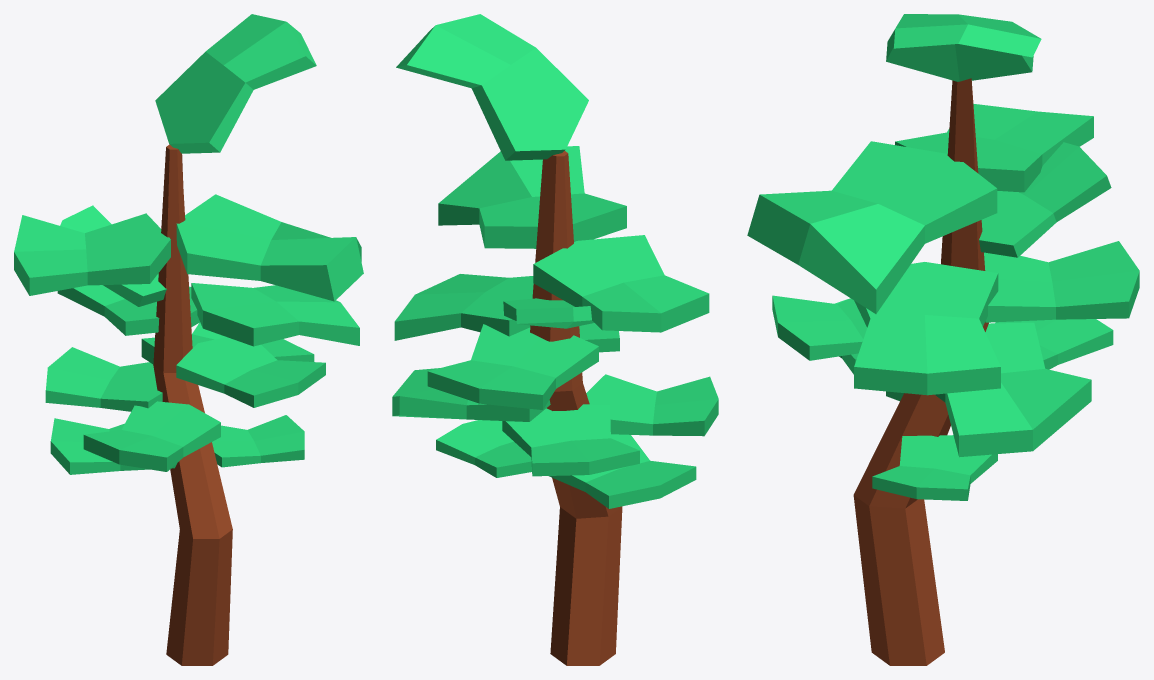
File: Sapling.fbx
The picture shows the model from 3 angles, left to right: view 1: azimuth 30°, elevation 25°; view 2: azimuth 150°, elevation 25°; view 3: azimuth 270°, elevation 25°; orthographic projection. The views are drawn at different scales.
Visible parts, largest first — view 1: Cube; view 2: Cube; view 3: Cube.
Boxes of the visible parts, x1,y1,x2,y2 form: Cube: (14,14,363,665); Cube: (392,14,718,665); Cube: (747,14,1139,665).
Size of the model in its own units: 110 by 107 by 209.
